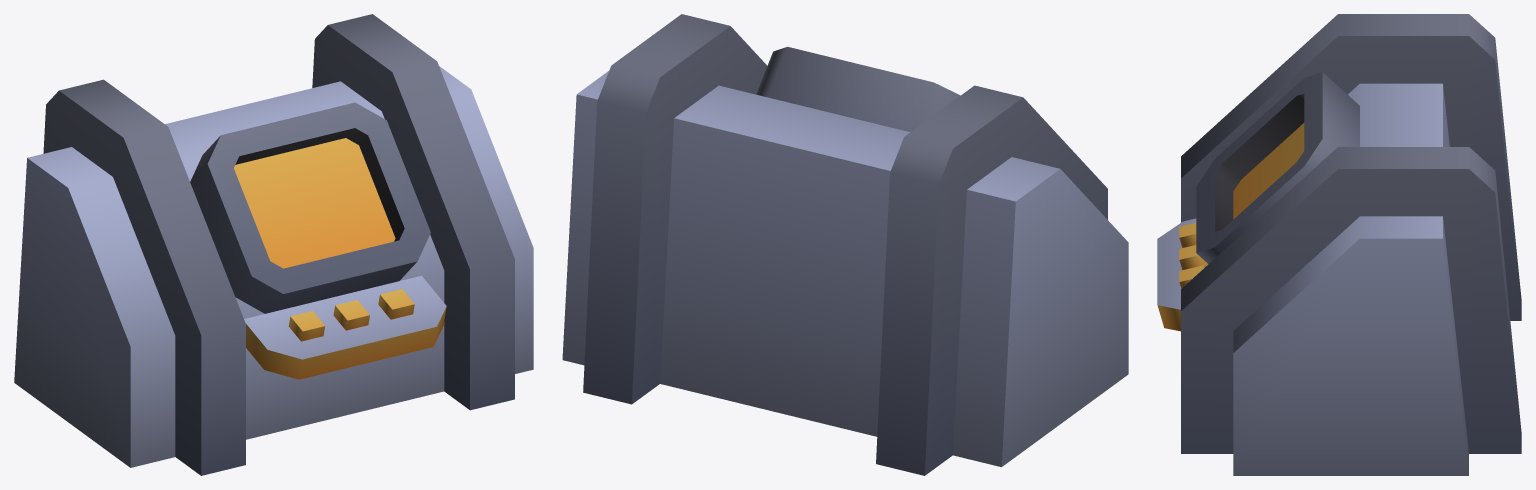
File: computer-system.glb
The picture shows the model from 3 angles, left to right: view 1: azimuth 30°, elevation 25°; view 2: azimuth 150°, elevation 25°; view 3: azimuth 270°, elevation 25°; orthographic projection. The views are drawn at different scales.
Parts seen in each view (by area): view 1: computer-system; view 2: computer-system; view 3: computer-system.
Part boxes in pixels (x1,y1,x2,y2): computer-system: [14, 14, 533, 475]; computer-system: [562, 14, 1128, 475]; computer-system: [1157, 14, 1521, 475].
Bounding box in the file's own units: 0.9 × 0.6 × 0.6949.
